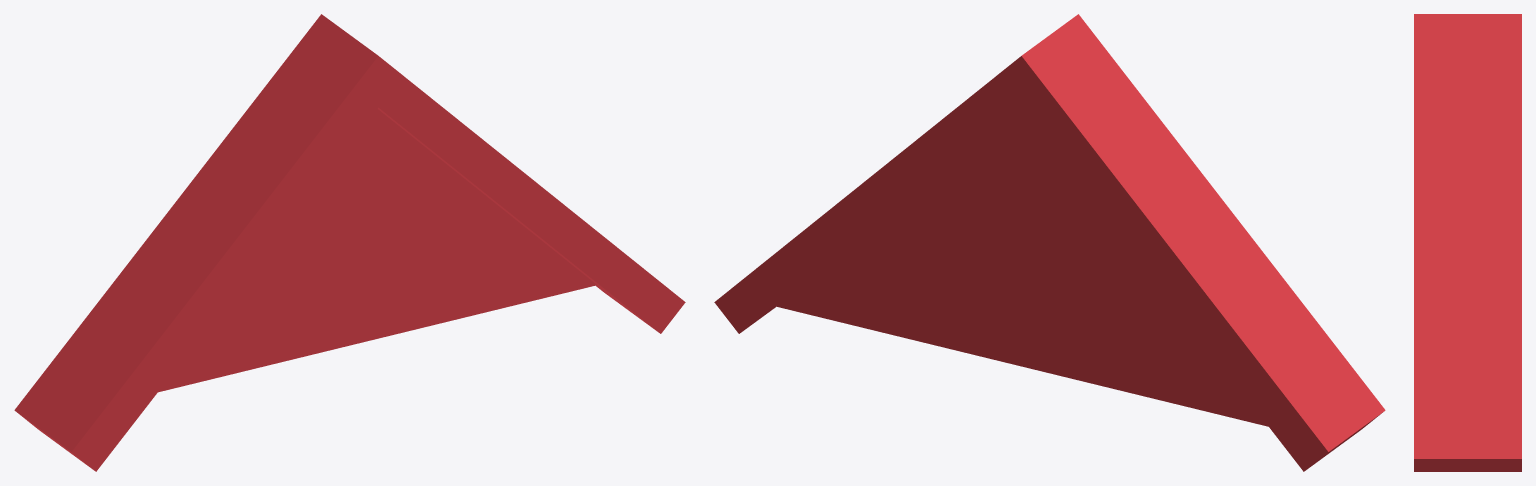
The model's file is roof_gable_middle_roof.glb.
The picture shows the model from 3 angles, left to right: view 1: azimuth 30°, elevation 25°; view 2: azimuth 150°, elevation 25°; view 3: azimuth 270°, elevation 25°; orthographic projection. The views are drawn at different scales.
Parts seen in each view (by area): view 1: roof_gable_middle_roof; view 2: roof_gable_middle_roof; view 3: roof_gable_middle_roof.
Part boxes in pixels (x1,y1,x2,y2): roof_gable_middle_roof: (14,14,685,471); roof_gable_middle_roof: (714,14,1385,471); roof_gable_middle_roof: (1414,14,1521,471).
Size of the model in its own units: 1.24 by 0.6707 by 0.2.
